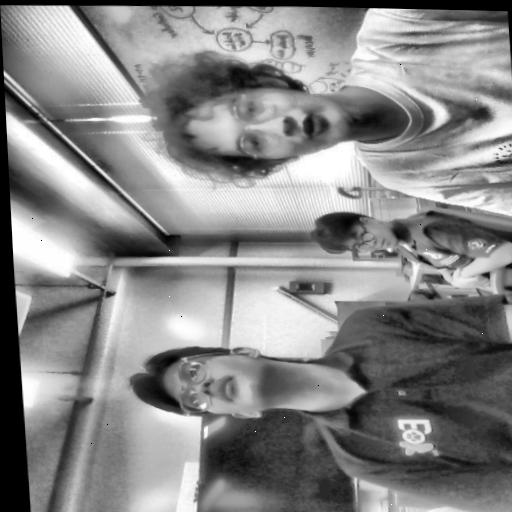Daifuku: (139, 48, 346, 189)
Not Daifuku: (129, 344, 282, 422), (300, 207, 405, 254)
